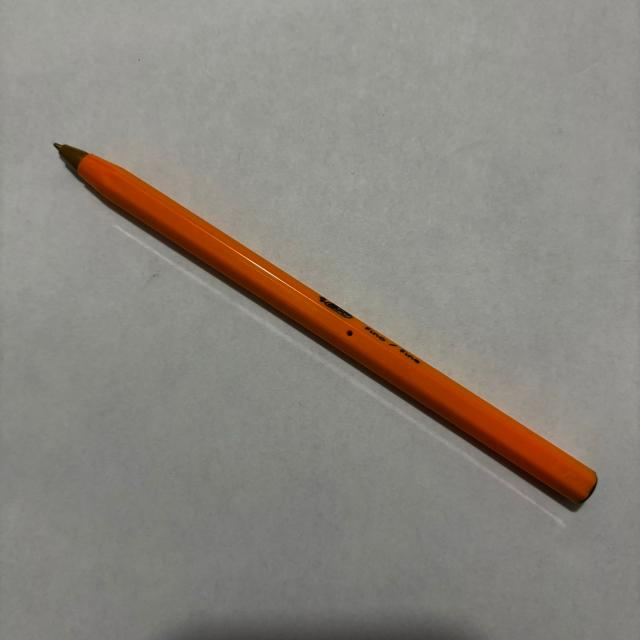pencil: (54, 144, 598, 514)
